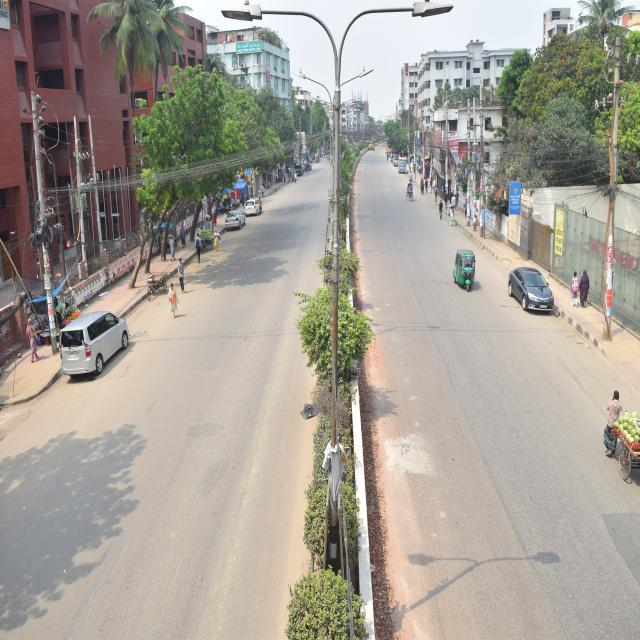car: (508, 264, 560, 326), (237, 187, 262, 223), (226, 203, 244, 238)
microbus: (59, 326, 132, 376)
